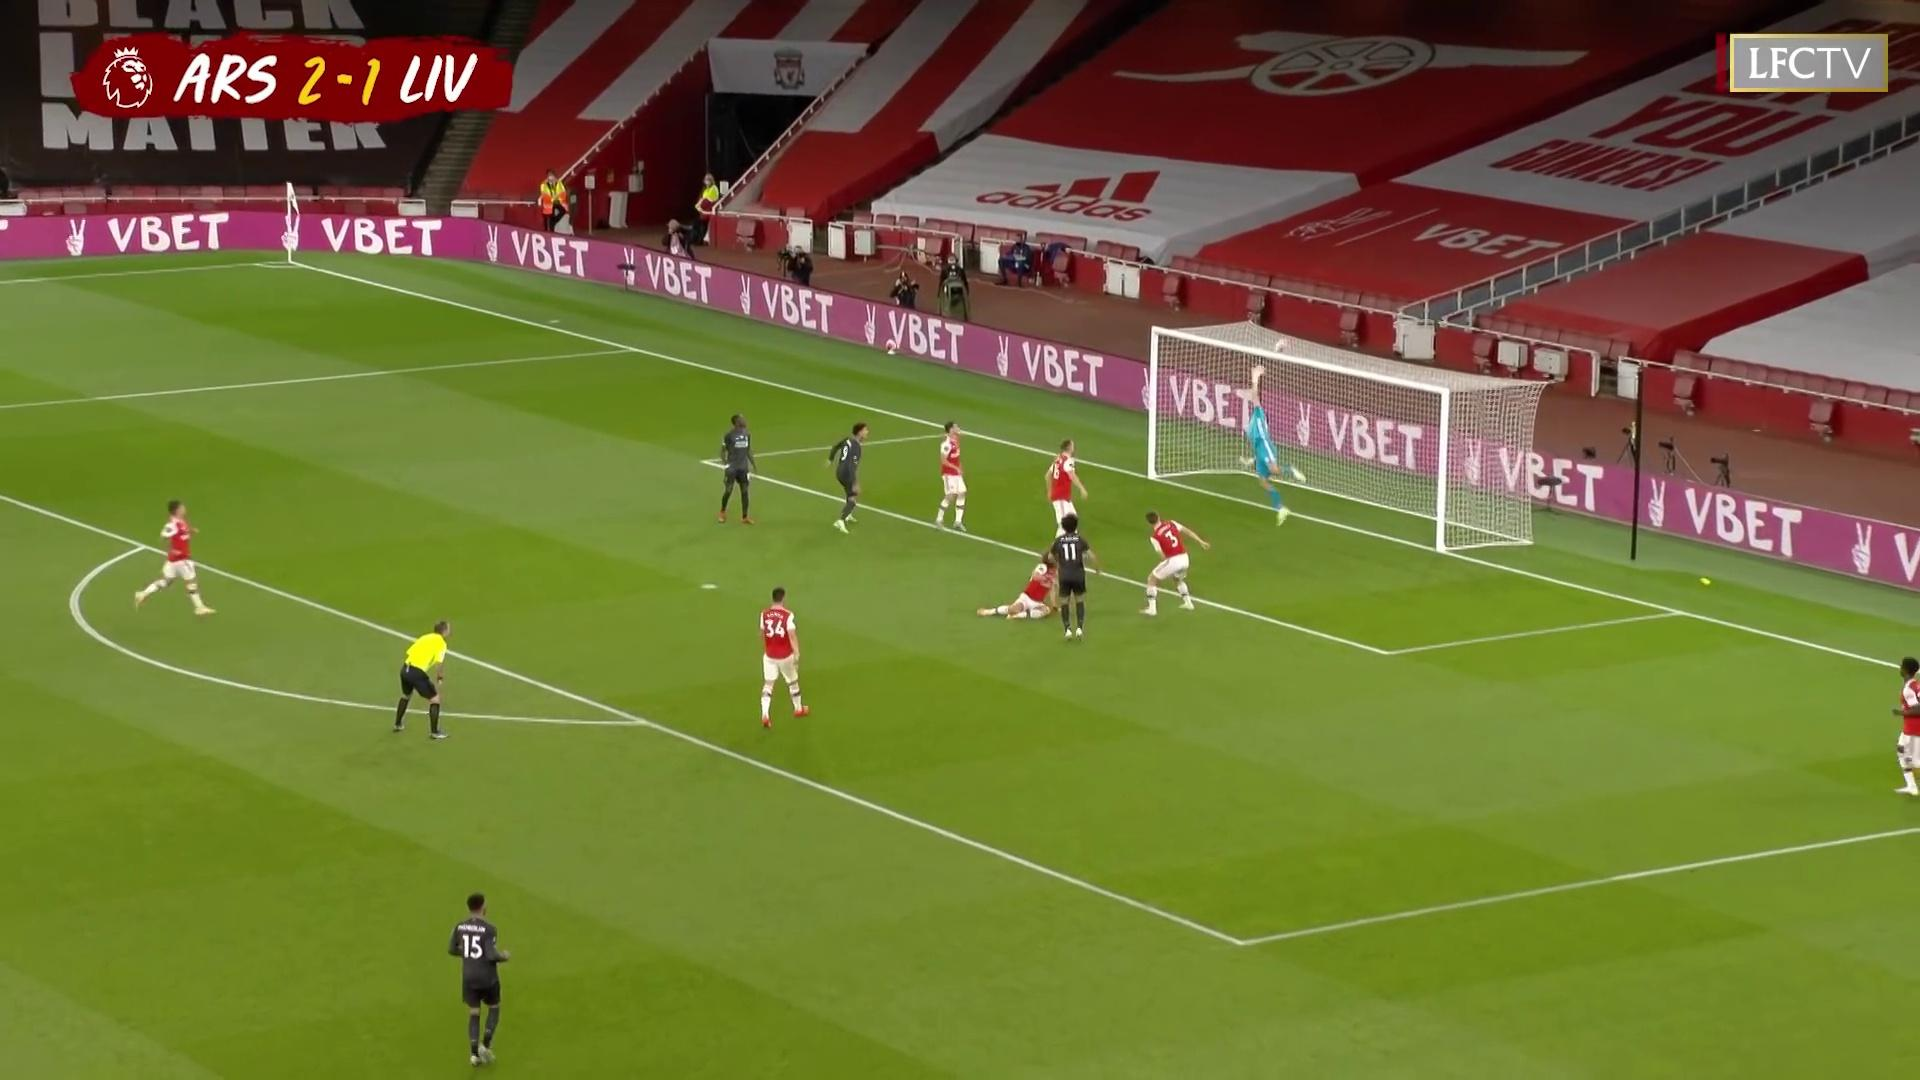ball: (1270, 339, 1288, 353)
